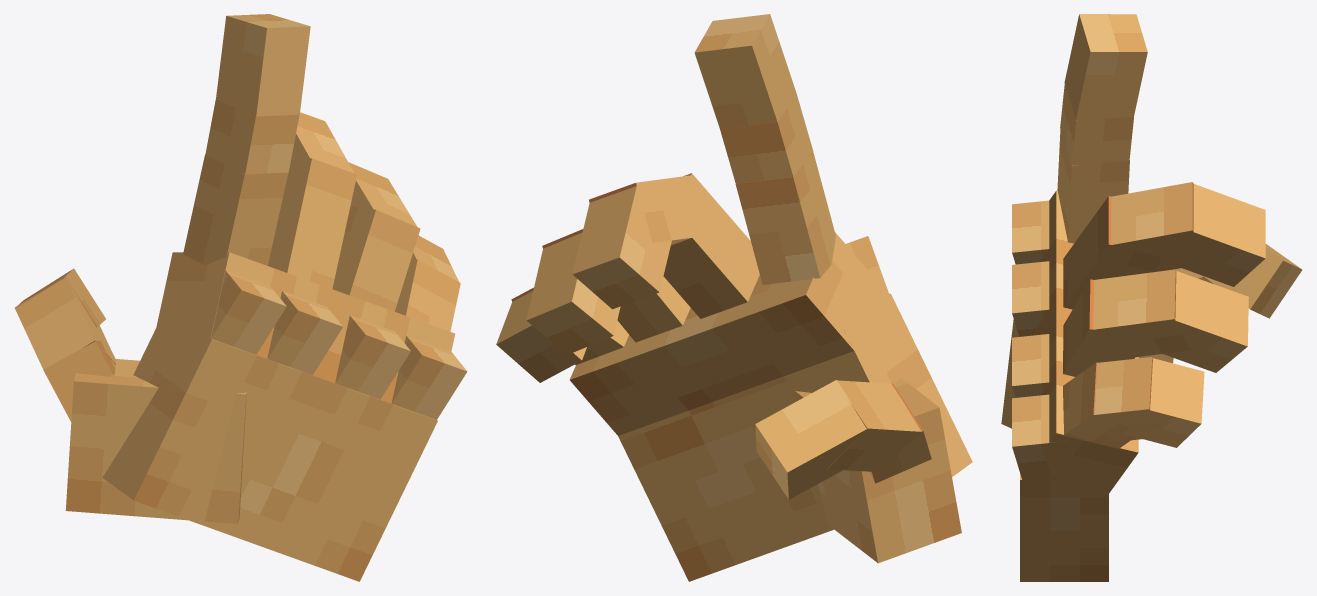
File: CatHand.glb
3 views of the same model, side by side, from view 1: azimuth 30°, elevation 25°; view 2: azimuth 150°, elevation 25°; view 3: azimuth 270°, elevation 25° (orthographic). The views are drawn at different scales.
Parts seen in each view (by area): view 1: Object_54; view 2: Object_54; view 3: Object_54.
Part boxes in pixels (x1,y1,x2,y2): Object_54: (14, 14, 467, 581); Object_54: (496, 14, 972, 581); Object_54: (1001, 14, 1302, 581).
Bounding box in the file's own units: 0.9687 × 1.25 × 0.6359.
1 material, 1 textured.
